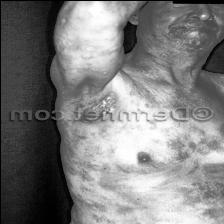Potentially Malignant Skin Tumors: (64, 132, 102, 182), (170, 179, 224, 209), (163, 135, 215, 159), (58, 206, 124, 224), (94, 91, 122, 111)
